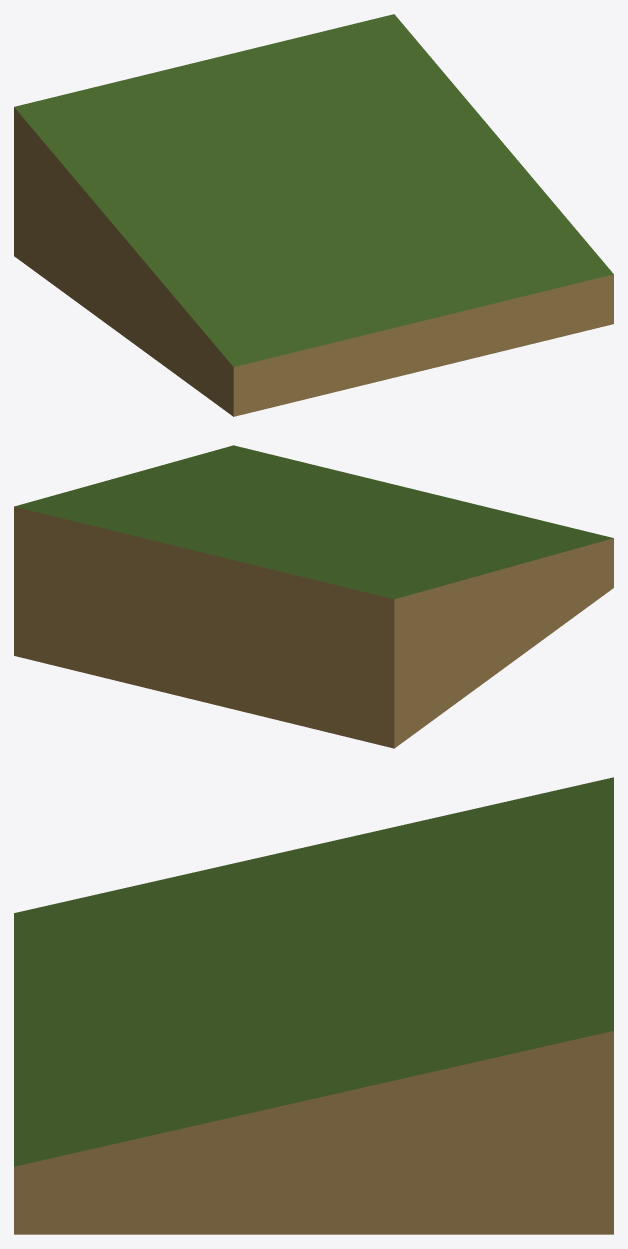
The model's file is Terrain_Tile_Grass_Dirt_Ramp_High_01.fbx.
The picture shows the model from 3 angles, top to bottom: view 1: azimuth 30°, elevation 25°; view 2: azimuth 150°, elevation 25°; view 3: azimuth 270°, elevation 25°; orthographic projection. The views are drawn at different scales.
Visible parts, largest first — view 1: Model; view 2: Model; view 3: Model.
Part boxes in pixels (x1,y1,x2,y2): Model: (14,14,613,416); Model: (14,445,613,748); Model: (14,777,613,1234).
Bounding box in the file's own units: 2000 × 750 × 2000.
